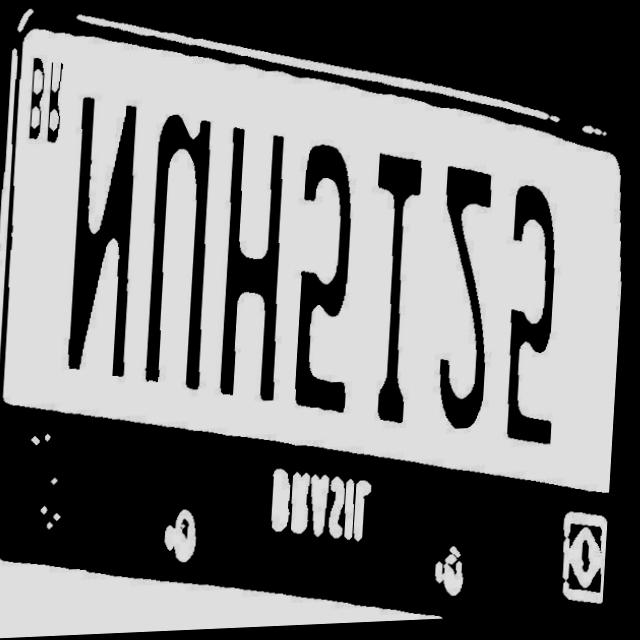2: (425, 158, 513, 449)
5: (289, 138, 372, 430), (501, 184, 576, 459)
h: (212, 121, 298, 414)
i: (360, 146, 437, 439)
n: (65, 72, 153, 385)
u: (138, 95, 226, 403)
